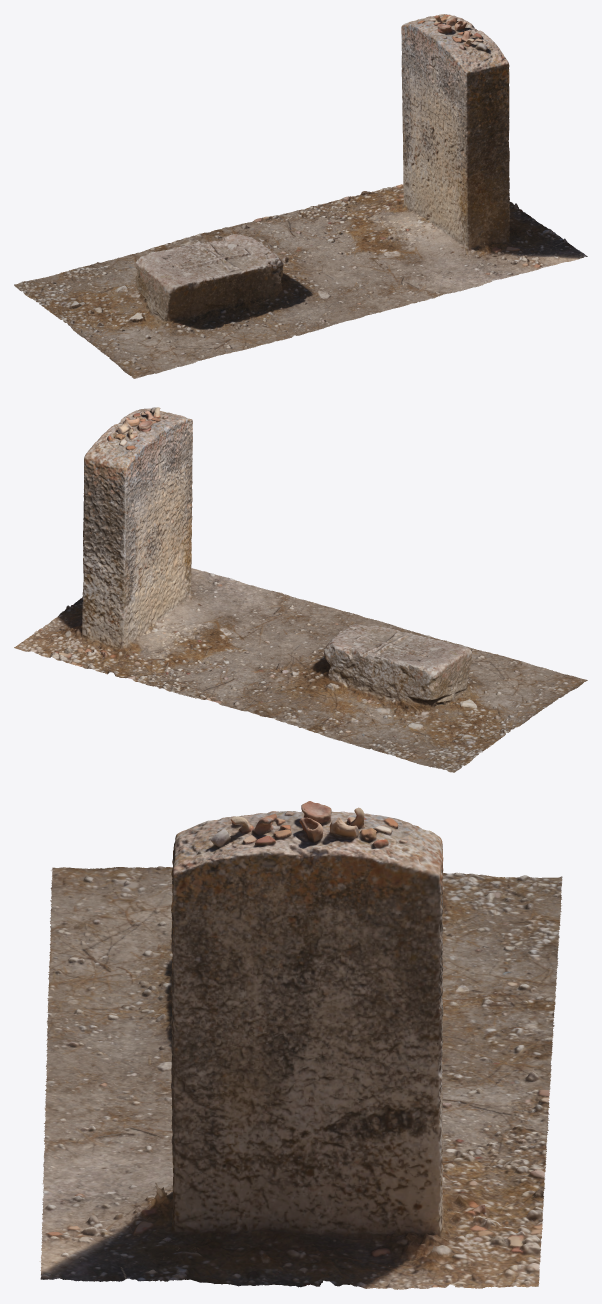
Rendered from mount_zion_cemetery_2017_-_petries_grave.glb.
3 renders of one model, top to bottom at view 1: azimuth 30°, elevation 25°; view 2: azimuth 150°, elevation 25°; view 3: azimuth 270°, elevation 25°, orthographic. The views are drawn at different scales.
Parts seen in each view (by area): view 1: Object_5, Object_4, Object_2, Object_3, Object_6; view 2: Object_4, Object_3, Object_6, Object_2, Object_5; view 3: Object_2, Object_5, Object_3, Object_4, Object_6.
Boxes of the visible parts, left/top/right/bottom form: Object_5: left=160, top=184, right=587, bottom=366; Object_4: left=14, top=171, right=517, bottom=340; Object_2: left=401, top=14, right=509, bottom=248; Object_3: left=135, top=14, right=509, bottom=321; Object_6: left=71, top=191, right=525, bottom=378; Object_4: left=18, top=560, right=526, bottom=772; Object_3: left=82, top=408, right=471, bottom=704; Object_6: left=14, top=593, right=587, bottom=747; Object_2: left=81, top=407, right=192, bottom=647; Object_5: left=29, top=568, right=541, bottom=688; Object_2: left=171, top=801, right=443, bottom=1236; Object_5: left=39, top=909, right=546, bottom=1289; Object_3: left=171, top=817, right=443, bottom=1228; Object_4: left=42, top=872, right=562, bottom=1289; Object_6: left=45, top=866, right=556, bottom=1288.
Size of the model in its own units: 2.4 by 1.1 by 1.2.
Materials: 1 (1 with a texture image).
